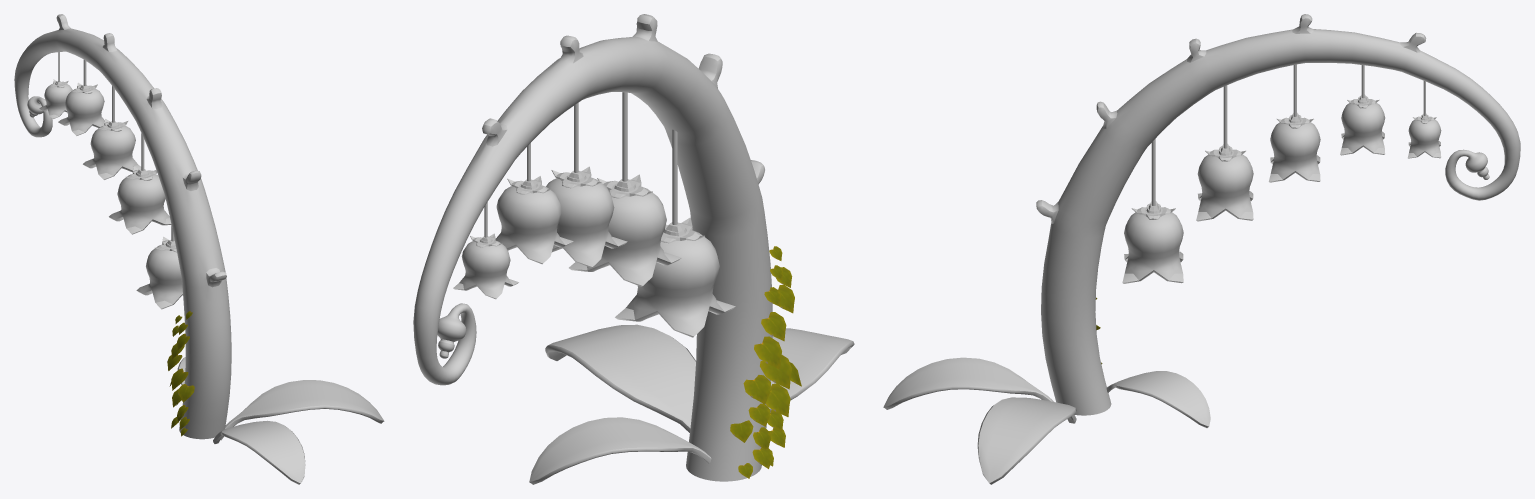
Rendered from maylily.fbx.
The picture shows the model from 3 angles, left to right: view 1: azimuth 30°, elevation 25°; view 2: azimuth 150°, elevation 25°; view 3: azimuth 270°, elevation 25°; orthographic projection. The views are drawn at different scales.
Parts seen in each view (by area): view 1: Cylinder162, maylily; view 2: Cylinder162, maylily; view 3: Cylinder162.
Part boxes in pixels (<box>): Cylinder162: <box>14,14,384,484</box>; maylily: <box>167,311,194,436</box>; Cylinder162: <box>413,14,854,484</box>; maylily: <box>730,246,801,478</box>; Cylinder162: <box>883,14,1520,484</box>.
Bounding box in the file's own units: 473 × 858 × 1239.
